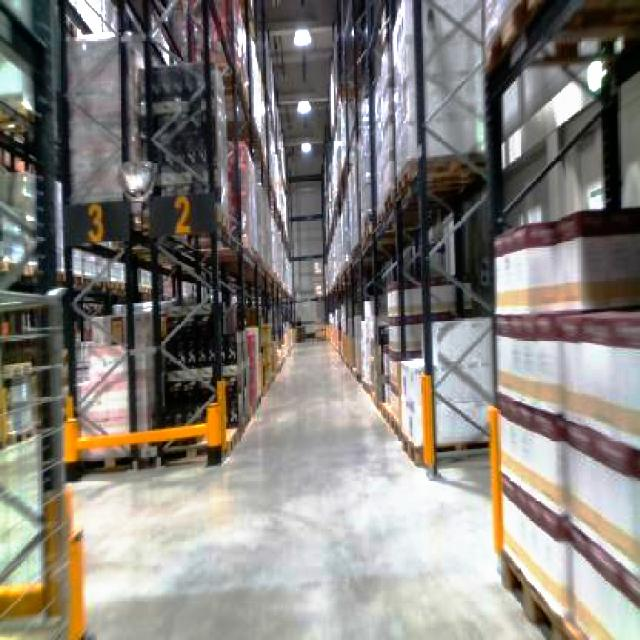ground: (0, 334, 575, 638)
pallet: (322, 0, 638, 638), (488, 202, 638, 638), (62, 223, 291, 474), (325, 149, 492, 471), (0, 485, 88, 638)
